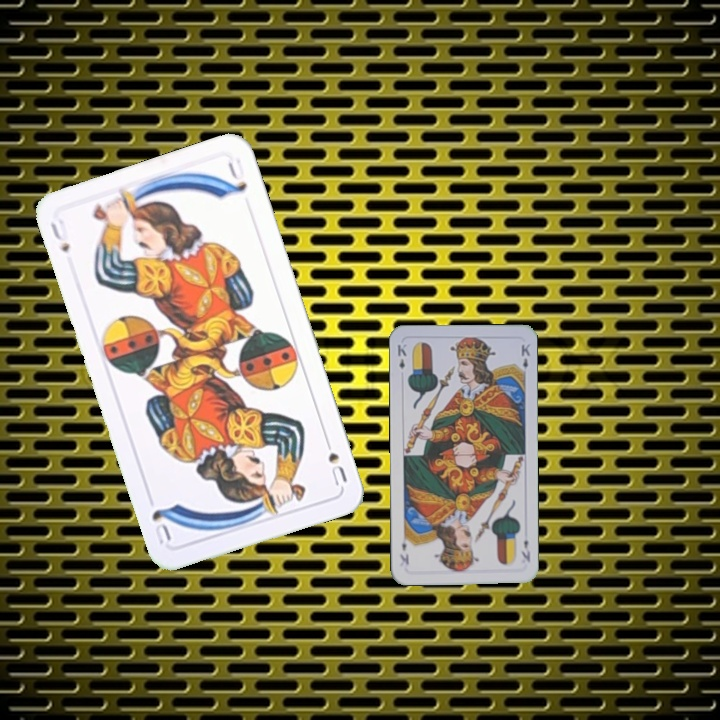EK: (517, 528, 533, 564), (393, 340, 409, 371)
SU: (320, 431, 350, 488), (46, 215, 73, 256)
